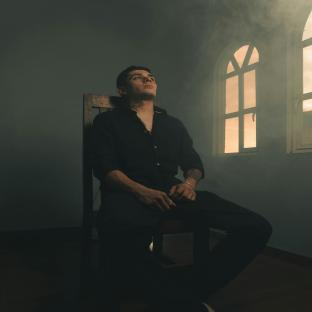Human: (90, 66, 272, 312)
